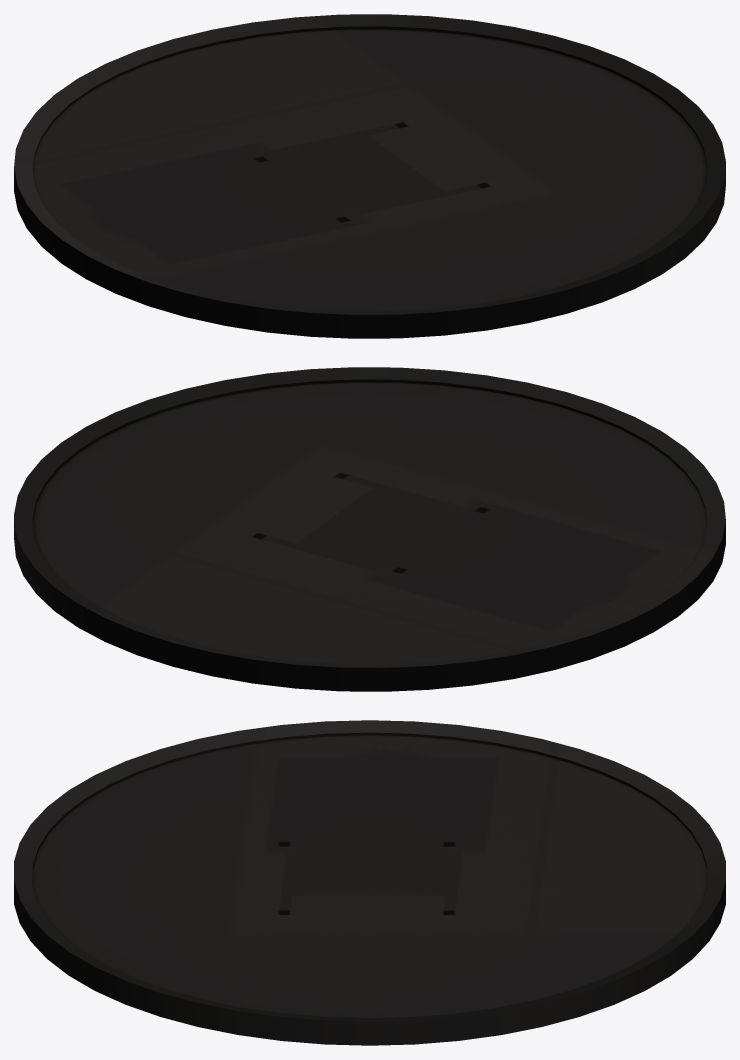
Rendered from floor.obj.
3 views of the same model, one above another, from view 1: azimuth 30°, elevation 25°; view 2: azimuth 150°, elevation 25°; view 3: azimuth 270°, elevation 25° (orthographic).
Bounding box in the file's own units: 4.1 × 0.1518 × 4.09.
